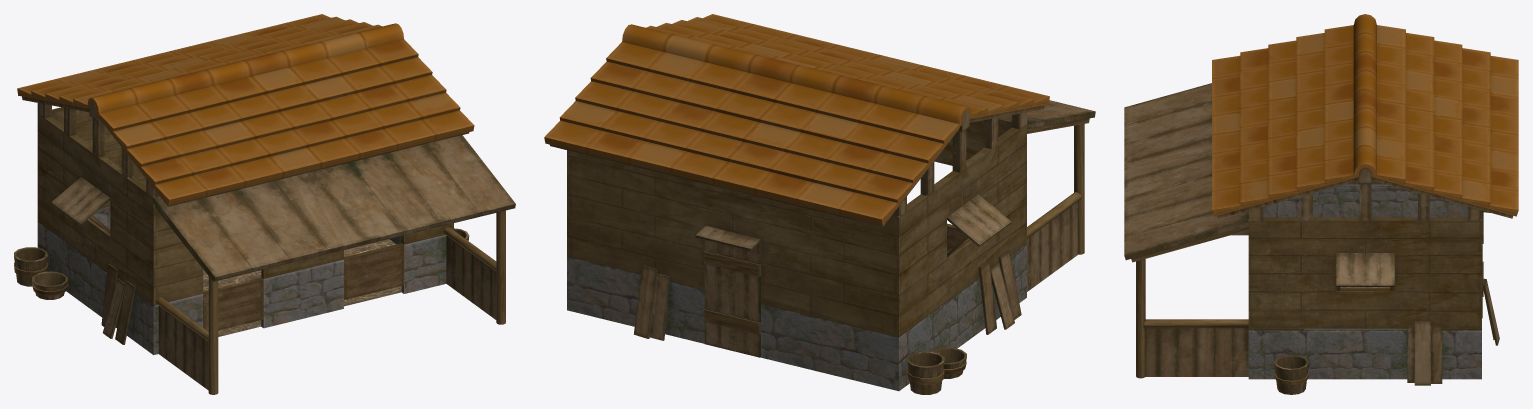
File: sb_obj_outdoor014_LivestockBarn01.fbx
3 views of the same model, side by side, from view 1: azimuth 30°, elevation 25°; view 2: azimuth 150°, elevation 25°; view 3: azimuth 270°, elevation 25° (orthographic). The views are drawn at different scales.
Visible parts, largest first — view 1: sb_obj_outdoor014_LivestockBarn01; view 2: sb_obj_outdoor014_LivestockBarn01; view 3: sb_obj_outdoor014_LivestockBarn01.
Boxes of the visible parts, <box> form: sb_obj_outdoor014_LivestockBarn01: <box>14,14,515,394</box>; sb_obj_outdoor014_LivestockBarn01: <box>544,14,1095,394</box>; sb_obj_outdoor014_LivestockBarn01: <box>1124,14,1518,394</box>.
Bounding box in the file's own units: 7.29 × 4.1 × 6.76.
